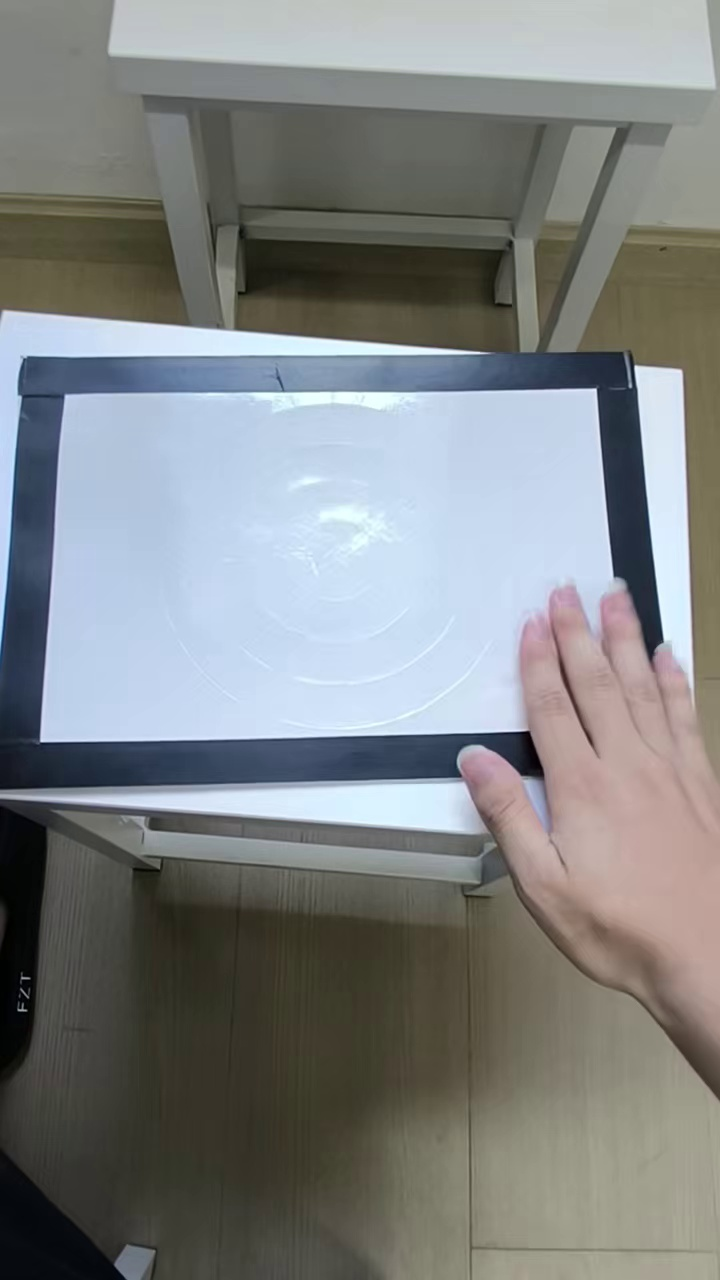board: (7, 350, 670, 782)
